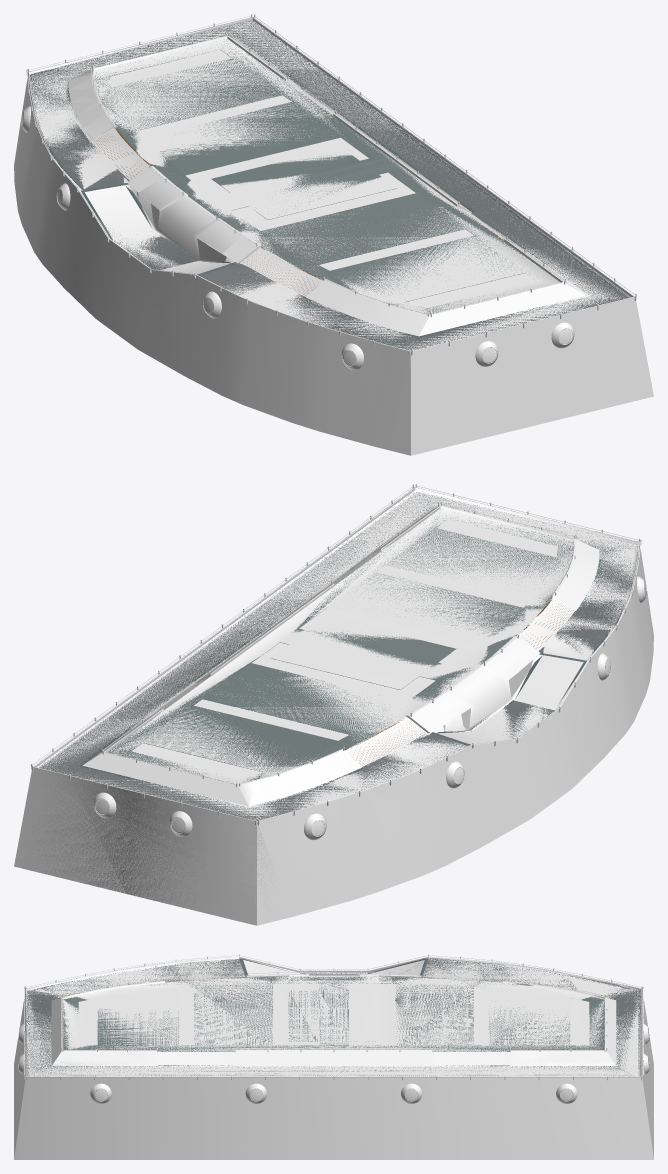
Rendered from objects_un_c03island01.gltf.
The picture shows the model from 3 angles, top to bottom: view 1: azimuth 30°, elevation 25°; view 2: azimuth 150°, elevation 25°; view 3: azimuth 270°, elevation 25°; orthographic projection. The views are drawn at different scales.
Parts seen in each view (by area): view 1: um_objects_un_c03island01_model_lod0Shape:objects_un_c03isla (×4), um_objects_un_c03island01_model_lod1Shape:objects_c03_wall01, um_objects_un_c03island01_model_lod0Shape:objects_c03_wall01, um_objects_un_c03island01_model_lod2Shape:objects_un_c03isla, um_objects_un_c03island01_model_lod0Shape:objects_c03_grass0, um_objects_un_c03island01_model_lod1Shape:objects_un_c03isla, um_objects_un_c03island01_model_lod0Shape:objects_c03_spotli, um_objects_un_c03island01_model_lod0Shape:objects_c03_handra; view 2: um_objects_un_c03island01_model_lod0Shape:objects_un_c03isla (×4), um_objects_un_c03island01_model_lod1Shape:objects_c03_wall01, um_objects_un_c03island01_model_lod0Shape:objects_c03_wall01, um_objects_un_c03island01_model_lod2Shape:objects_un_c03isla, um_objects_un_c03island01_model_lod0Shape:objects_c03_grass0, um_objects_un_c03island01_model_lod1Shape:objects_un_c03isla, um_objects_un_c03island01_model_lod0Shape:objects_c03_spotli, um_objects_un_c03island01_model_lod0Shape:objects_c03_handra; view 3: um_objects_un_c03island01_model_lod0Shape:objects_un_c03isla (×4), um_objects_un_c03island01_model_lod0Shape:objects_c03_wall01, um_objects_un_c03island01_model_lod1Shape:objects_c03_wall01, um_objects_un_c03island01_model_lod2Shape:objects_un_c03isla, um_objects_un_c03island01_model_lod0Shape:objects_c03_grass0, um_objects_un_c03island01_model_lod0Shape:objects_c03_spotli, um_objects_un_c03island01_model_lod1Shape:objects_un_c03isla, nomerge_spotlight01_mesh_shape:objects_c03_spotlight02_yello, um_objects_un_c03island01_model_lod0Shape:objects_c03_handra.
Boxes of the visible parts, box(x1,y1,x2,y2) form: um_objects_un_c03island01_model_lod0Shape:objects_un_c03isla (×4): box(15, 15, 636, 442); um_objects_un_c03island01_model_lod1Shape:objects_c03_wall01: box(14, 19, 653, 455); um_objects_un_c03island01_model_lod0Shape:objects_c03_wall01: box(14, 17, 653, 455); um_objects_un_c03island01_model_lod2Shape:objects_un_c03isla: box(30, 21, 628, 349); um_objects_un_c03island01_model_lod0Shape:objects_c03_grass0: box(110, 50, 534, 304); um_objects_un_c03island01_model_lod1Shape:objects_un_c03isla: box(94, 47, 543, 302); um_objects_un_c03island01_model_lod0Shape:objects_c03_spotli: box(22, 106, 574, 370); um_objects_un_c03island01_model_lod0Shape:objects_c03_handra: box(26, 14, 636, 355); um_objects_un_c03island01_model_lod0Shape:objects_un_c03isla (×4): box(14, 485, 652, 925); um_objects_un_c03island01_model_lod1Shape:objects_c03_wall01: box(14, 488, 653, 925); um_objects_un_c03island01_model_lod0Shape:objects_c03_wall01: box(17, 487, 653, 925); um_objects_un_c03island01_model_lod2Shape:objects_un_c03isla: box(37, 492, 637, 820); um_objects_un_c03island01_model_lod0Shape:objects_c03_grass0: box(133, 524, 557, 755); um_objects_un_c03island01_model_lod1Shape:objects_un_c03isla: box(110, 522, 554, 779); um_objects_un_c03island01_model_lod0Shape:objects_c03_spotli: box(93, 576, 645, 840); um_objects_un_c03island01_model_lod0Shape:objects_c03_handra: box(31, 484, 641, 824); um_objects_un_c03island01_model_lod0Shape:objects_un_c03isla (×4): box(14, 955, 653, 1159); um_objects_un_c03island01_model_lod0Shape:objects_c03_wall01: box(14, 956, 653, 1158); um_objects_un_c03island01_model_lod1Shape:objects_c03_wall01: box(14, 956, 642, 1155); um_objects_un_c03island01_model_lod2Shape:objects_un_c03isla: box(27, 959, 641, 1070); um_objects_un_c03island01_model_lod0Shape:objects_c03_grass0: box(78, 984, 588, 1045); um_objects_un_c03island01_model_lod0Shape:objects_c03_spotli: box(18, 1024, 649, 1103); um_objects_un_c03island01_model_lod1Shape:objects_un_c03isla: box(63, 977, 604, 1051); nomerge_spotlight01_mesh_shape:objects_c03_spotlight02_yello: box(19, 1032, 648, 1100); um_objects_un_c03island01_model_lod0Shape:objects_c03_handra: box(24, 954, 643, 1079).
Size of what is drawn, in the model's own units: 106 by 32.87 by 216.
Materials: 12 (5 with a texture image).
